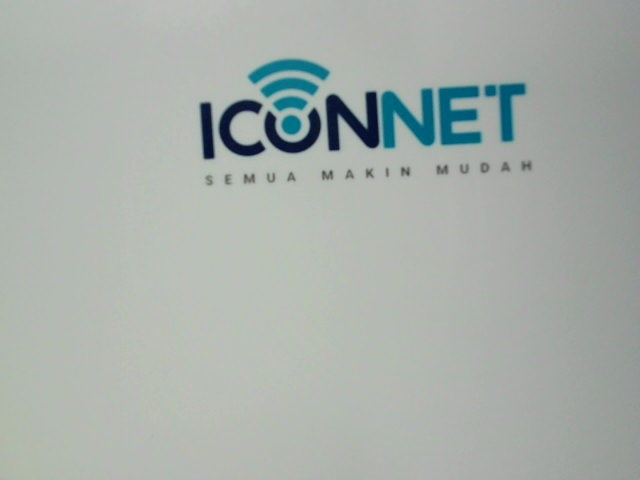BM_ICONNET: (192, 41, 572, 203)
